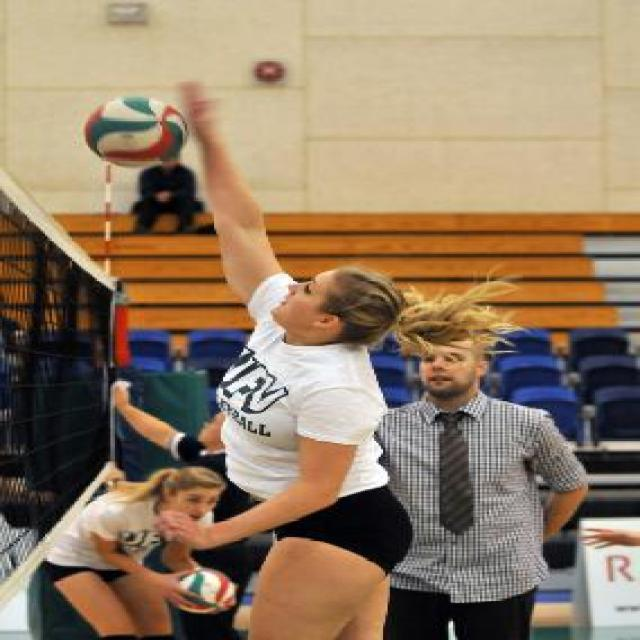volleyball: (84, 96, 188, 168), (172, 570, 236, 613)
